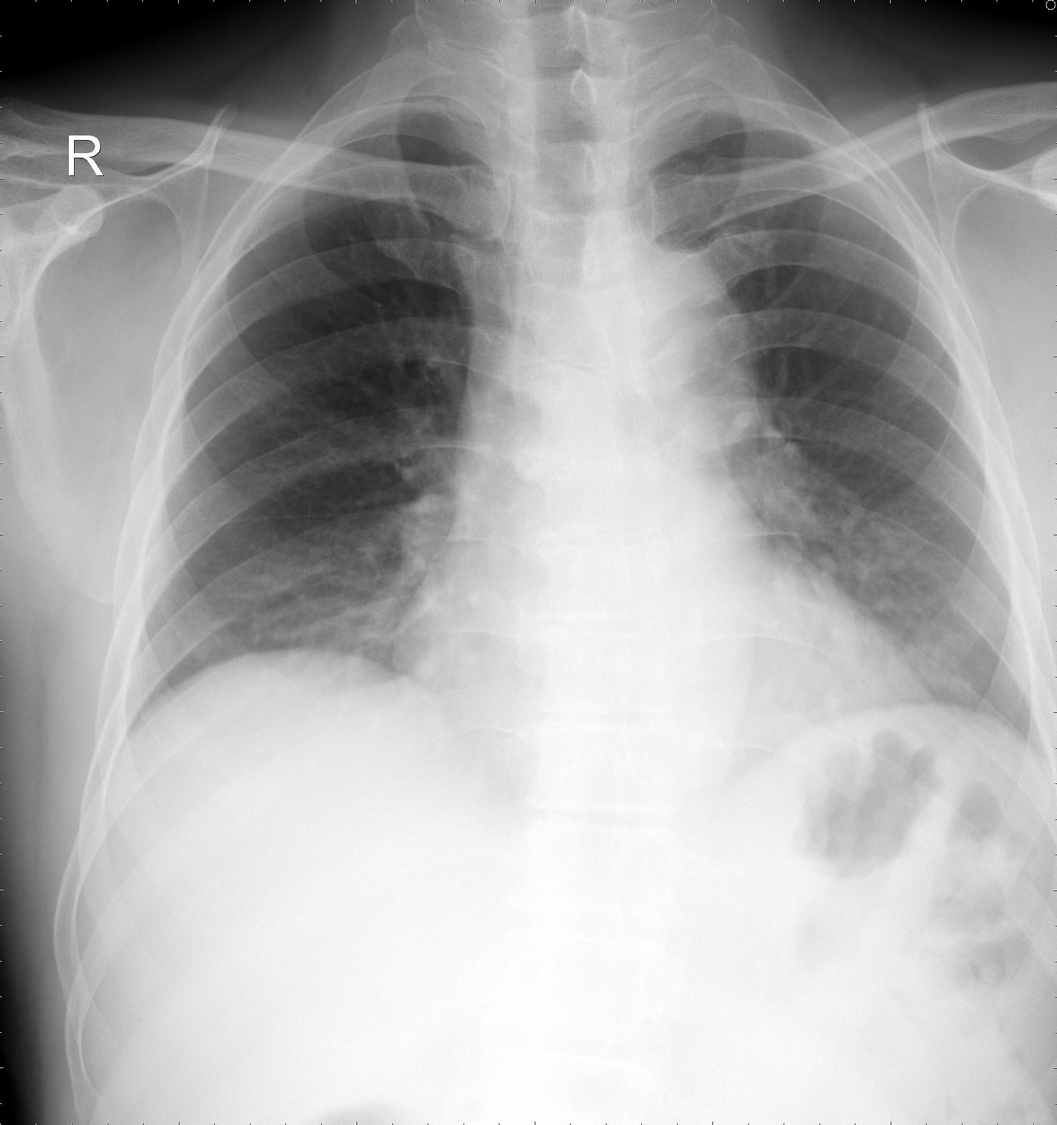Aortic enlargement: (589, 250, 753, 433)
